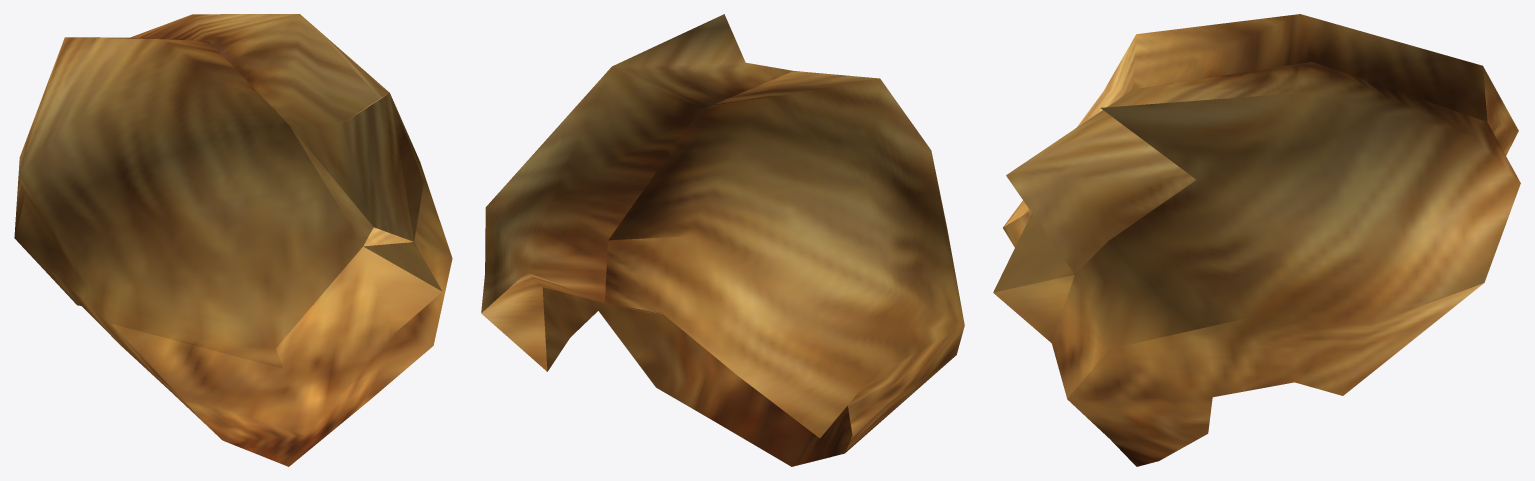
File: GenMaleHair02.obj
3 renders of one model, left to right at view 1: azimuth 30°, elevation 25°; view 2: azimuth 150°, elevation 25°; view 3: azimuth 270°, elevation 25°, orthographic. The views are drawn at different scales.
Visible parts, largest first — view 1: material_0; view 2: material_0; view 3: material_0.
Boxes of the visible parts, x1,y1,x2,y2 form: material_0: [14, 14, 452, 466]; material_0: [481, 14, 964, 466]; material_0: [993, 14, 1520, 466].
Size of the model in its own units: 21.94 by 22.65 by 25.46.
Materials: 1 (1 with a texture image).
